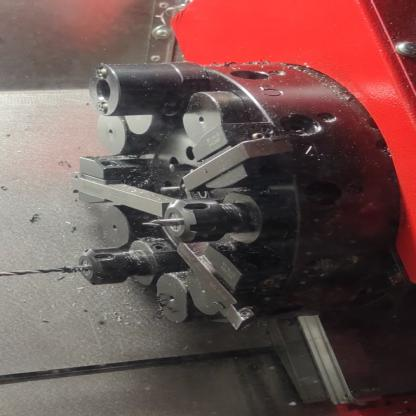bit: (176, 115, 313, 196), (167, 238, 280, 336), (62, 149, 191, 224)
